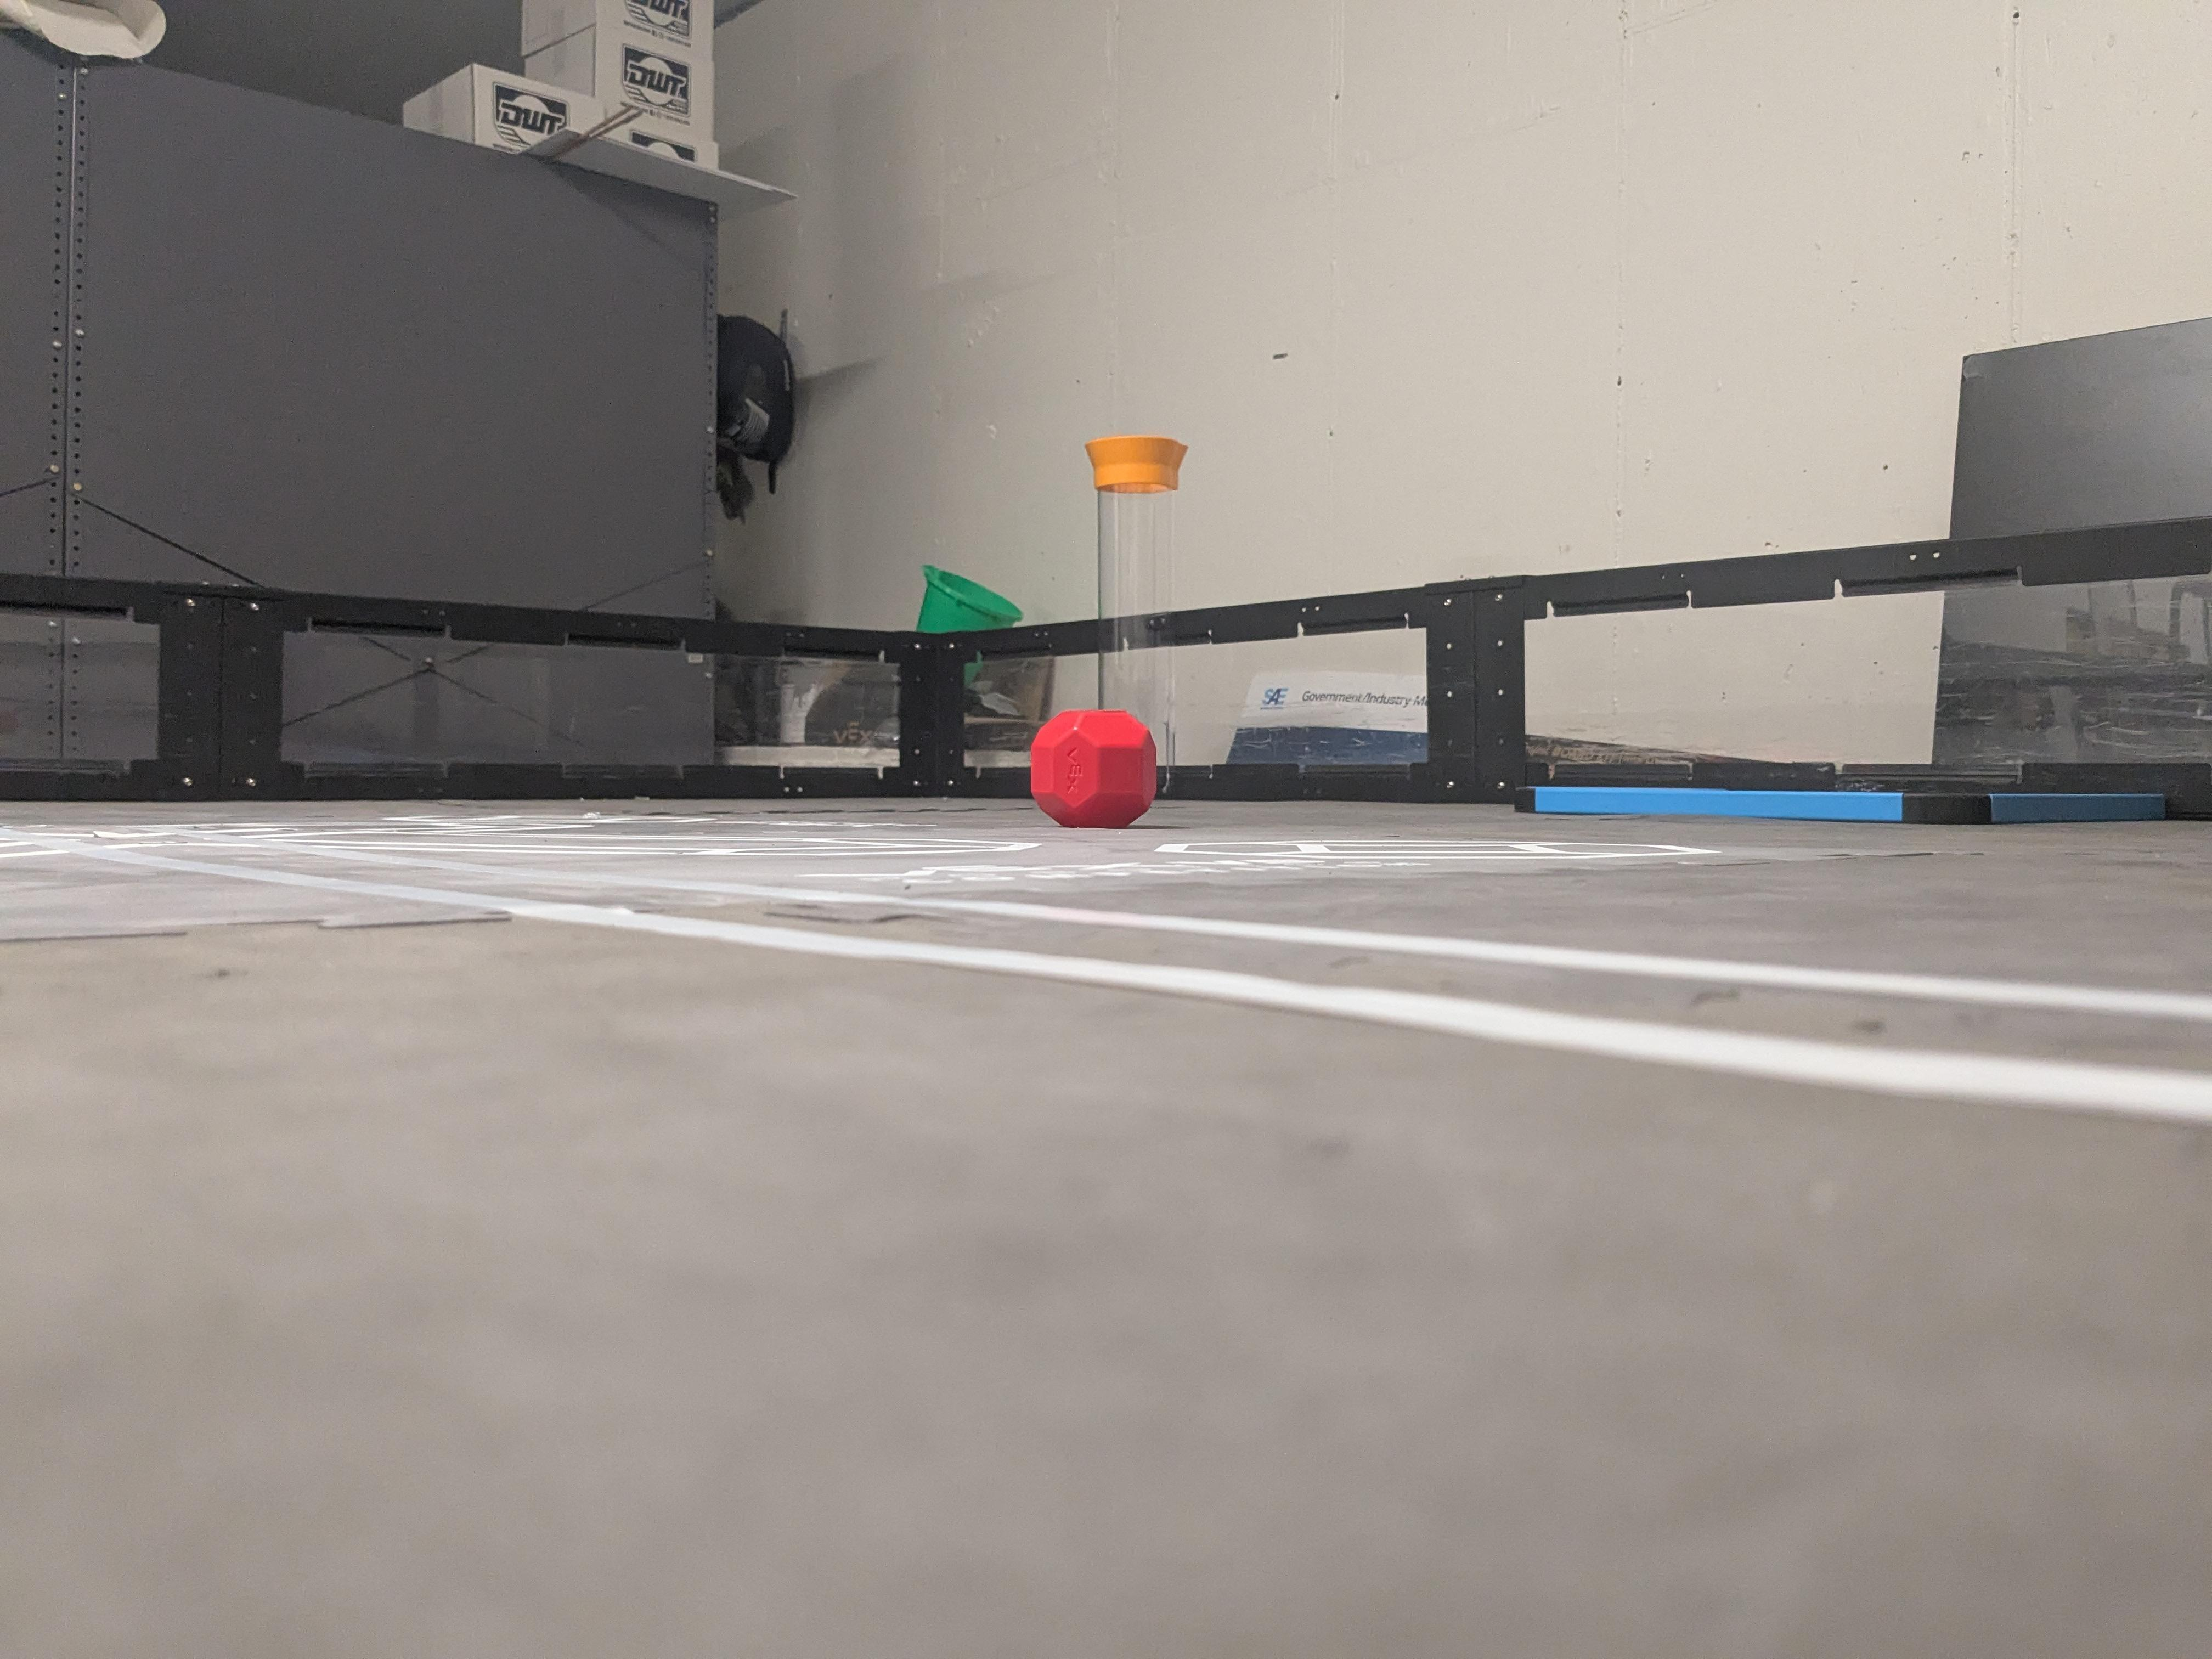Vex-Pieces-RED: (1029, 713, 1157, 826)
